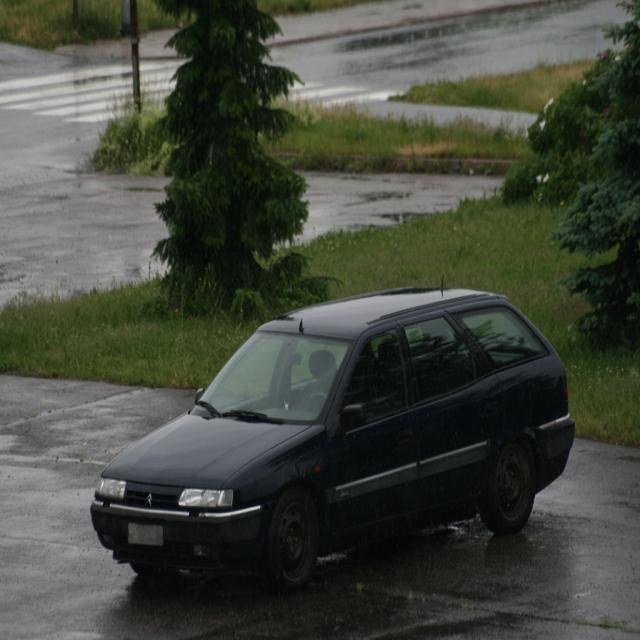car: (88, 273, 576, 595)
